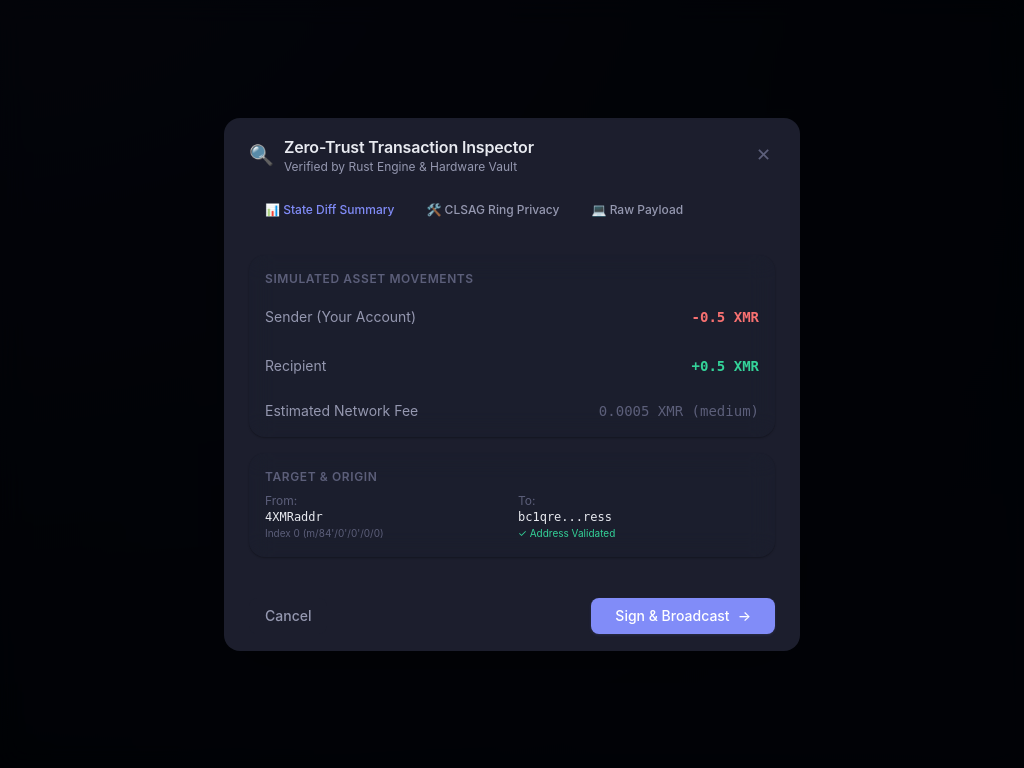
Test: TxInspectorModal.svelte › renders the CLSAG ring privacy tab for monero accounts
The width and height of the screenshot is (1024, 768).
# The technical tab button is dynamically labelled for monero.
Click the button "🛠️ CLSAG Ring Privacy".
click(493, 210)  # box 410,192 -> 575,230
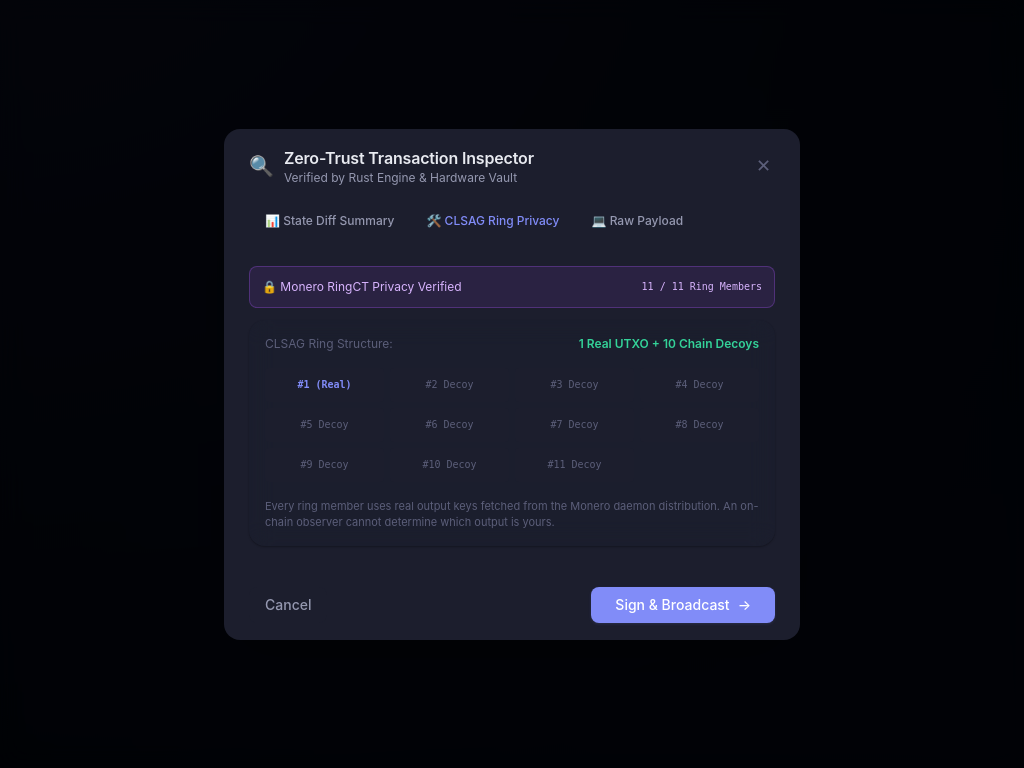
Result: the text "🔒 Monero RingCT Privacy Verified" is shown at 262,278 -> 462,294
Result: the text "11 / 11 Ring Members" is shown at 642,278 -> 762,294
